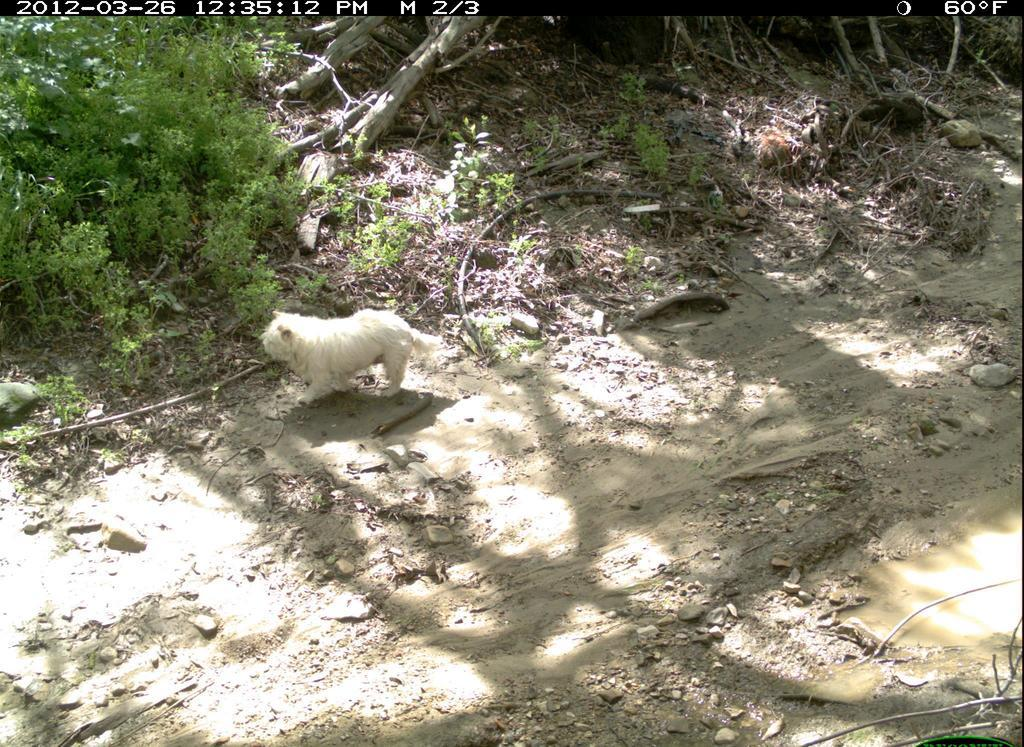dog: (240, 300, 455, 409)
